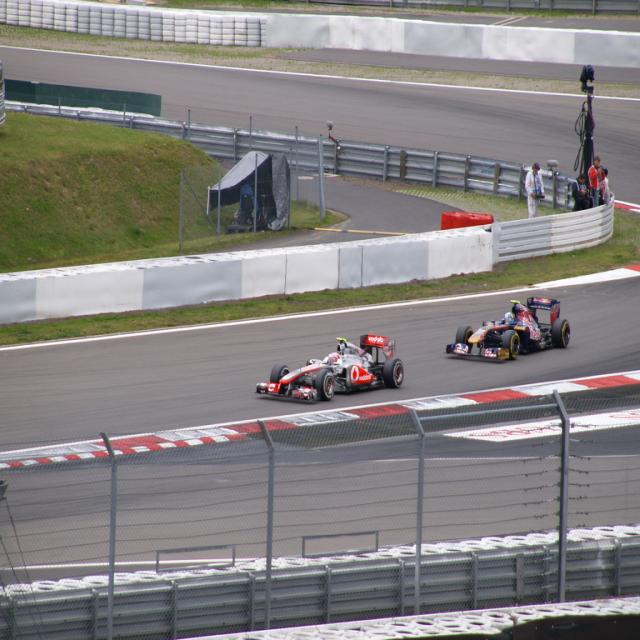car: (262, 335, 408, 405), (444, 292, 572, 358)
